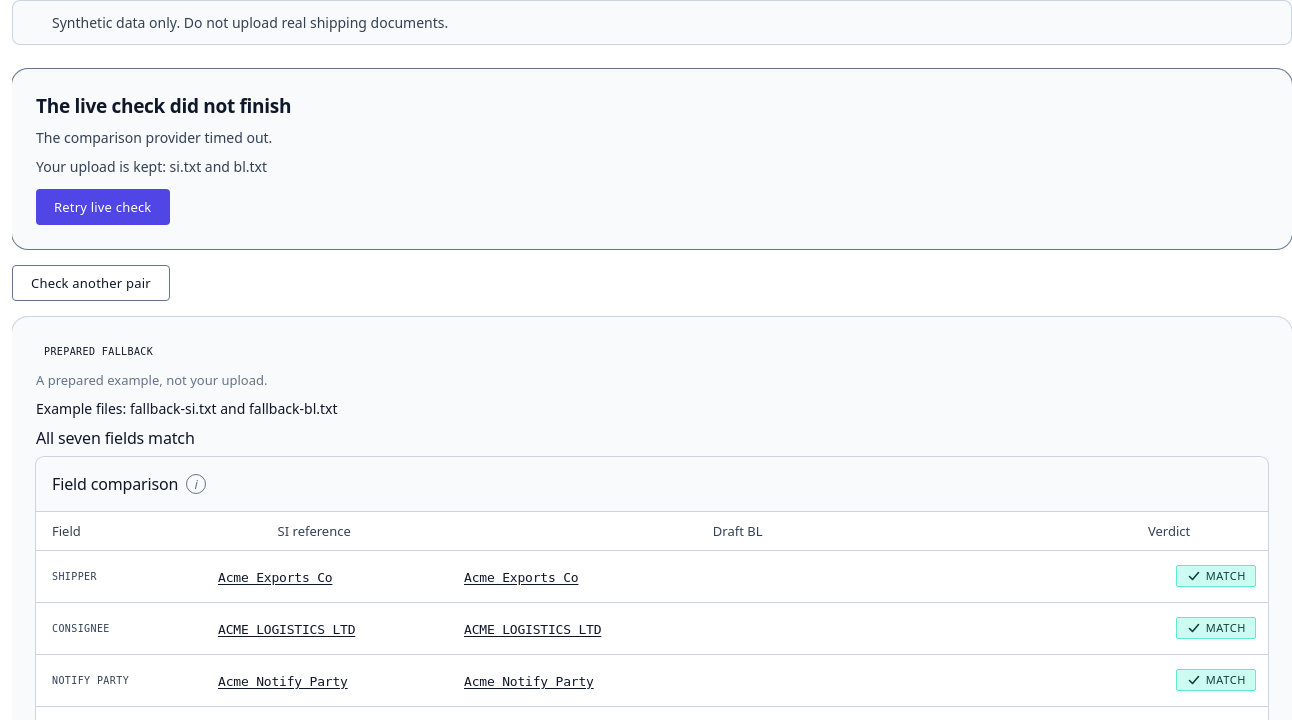
JudgeView › returns to the upload panel and clears the stored run id when "Check another pair" is clicked from a failure
The image size is (1292, 720).
Expected: the message "The live check did not finish" is shown, [36,93,291,119]
Click the button "Check another pair". click: (91, 283)
box: [12,265,170,301]
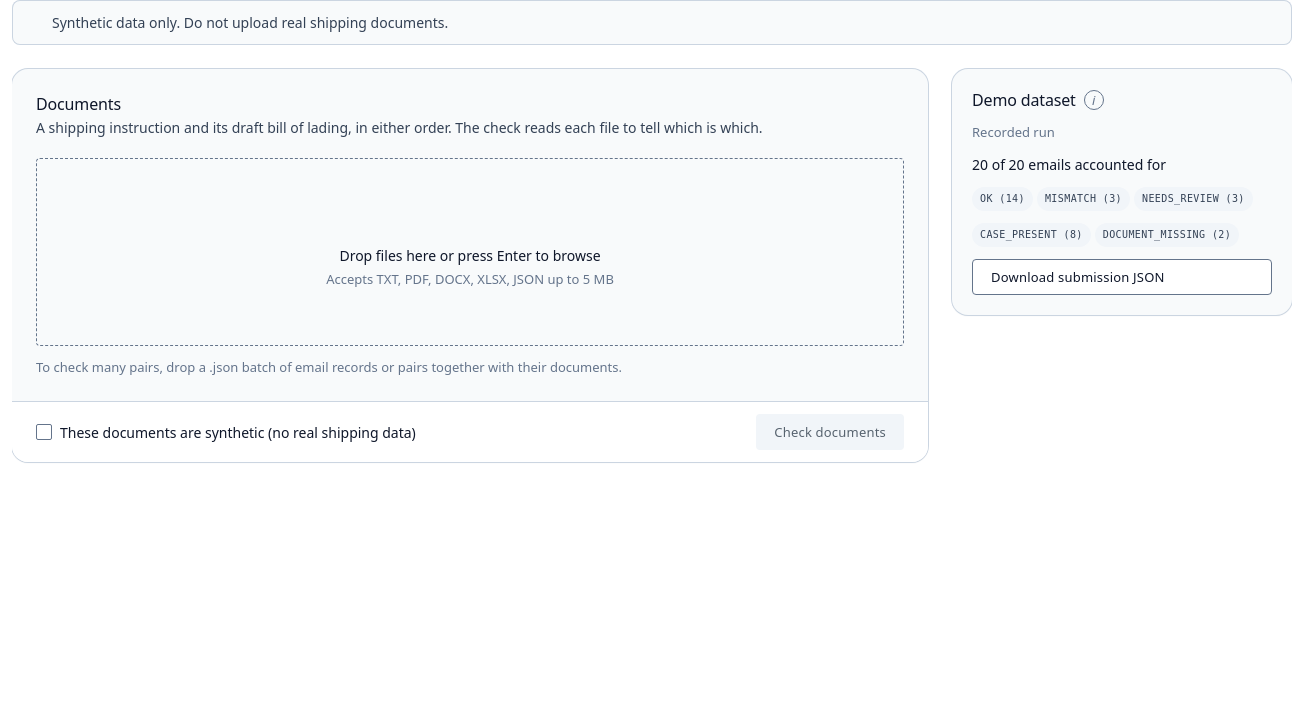
Expected: the button with aria-label "Shipping documents" is shown, [36,158,904,346]
Expected: the text "The live check did not finish" is gone
